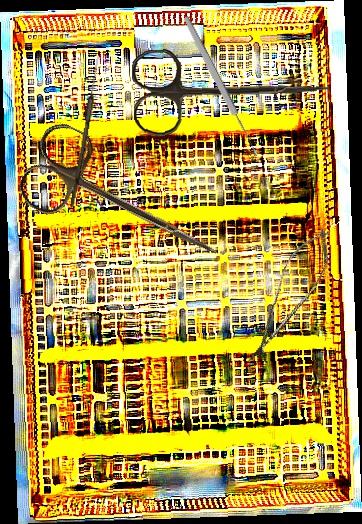Iris Scissors: (12, 117, 239, 289), (130, 40, 331, 138)
Micro Scissor: (237, 218, 343, 375)
Surgical Spoon: (181, 14, 261, 159), (70, 55, 101, 208)
